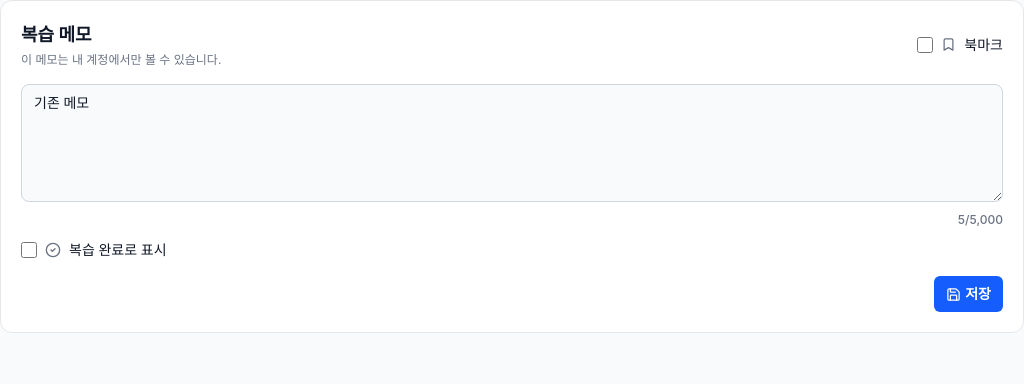
ProblemReviewControls › keeps an edited draft after an optimistic-lock conflict
Replace the text in the text box named "개인 메모" with "내가 계속 작성한 메모": (512, 143) [21,84,1003,202]
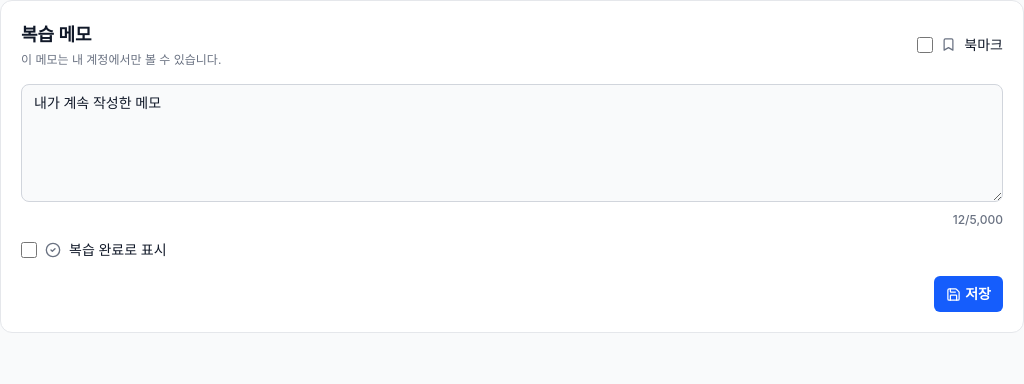
Click the button "저장": (969, 294) [934,276,1003,312]
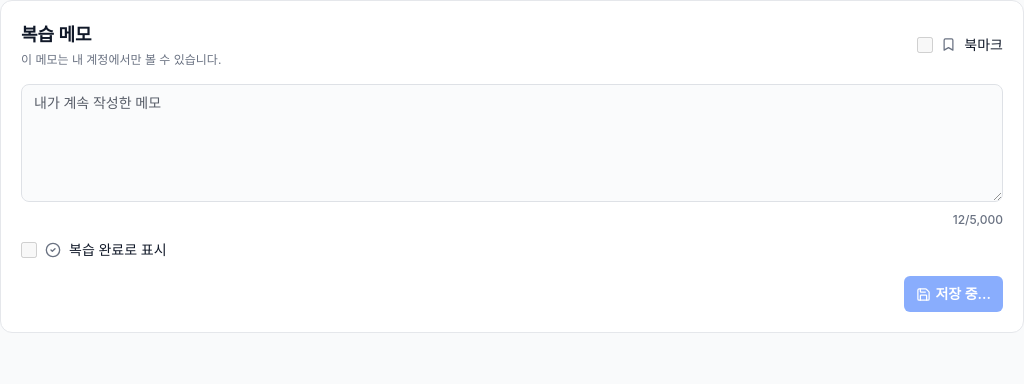
Expected: the text box named "개인 메모" is disabled, [21,84,1003,202]
Expected: the checkbox labelled "북마크" is disabled, [917,36,933,52]
Click the button "저장 중...": (954, 294) [904,276,1003,312]
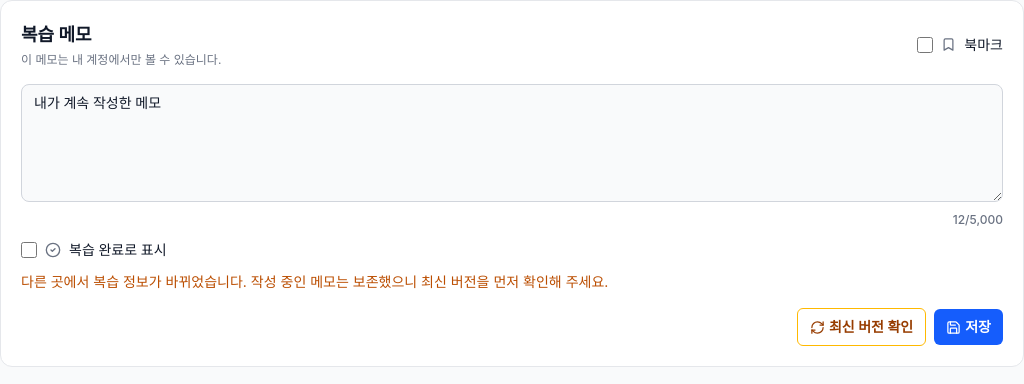
Expected: the text "다른 곳에서 복습 정보가 바뀌었습니다. 작성 중인 메모는 보존했으니 최신 버전을 먼저 확인해 주세요." is shown, [21,273,608,290]
Expected: the button "최신 버전 확인" is shown, [797,308,926,346]
